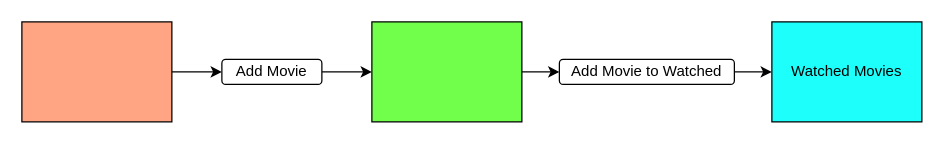
This 944x144 diagram has some shape labels left out. The shapes that lost their labels are listed below. From the top down, each one's centre as x and y in pixels, then its label:
At [96,71]: "Search Movie".
At [446,71]: "Movies".
